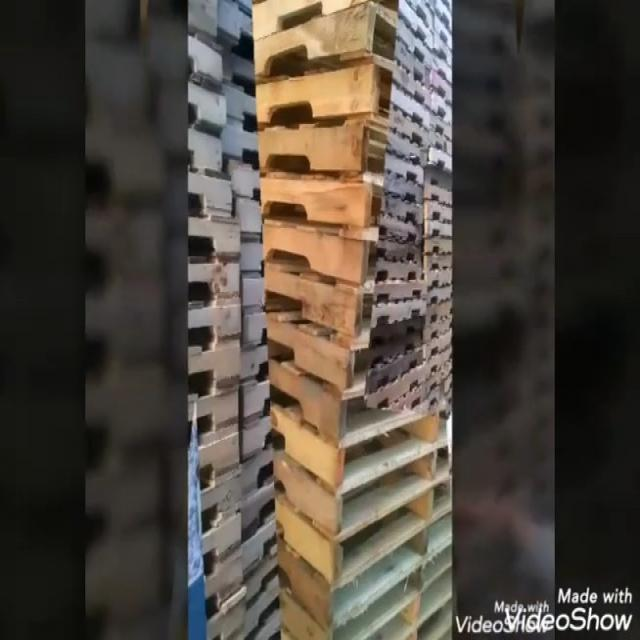Palette: (255, 0, 455, 640), (199, 0, 273, 640)
